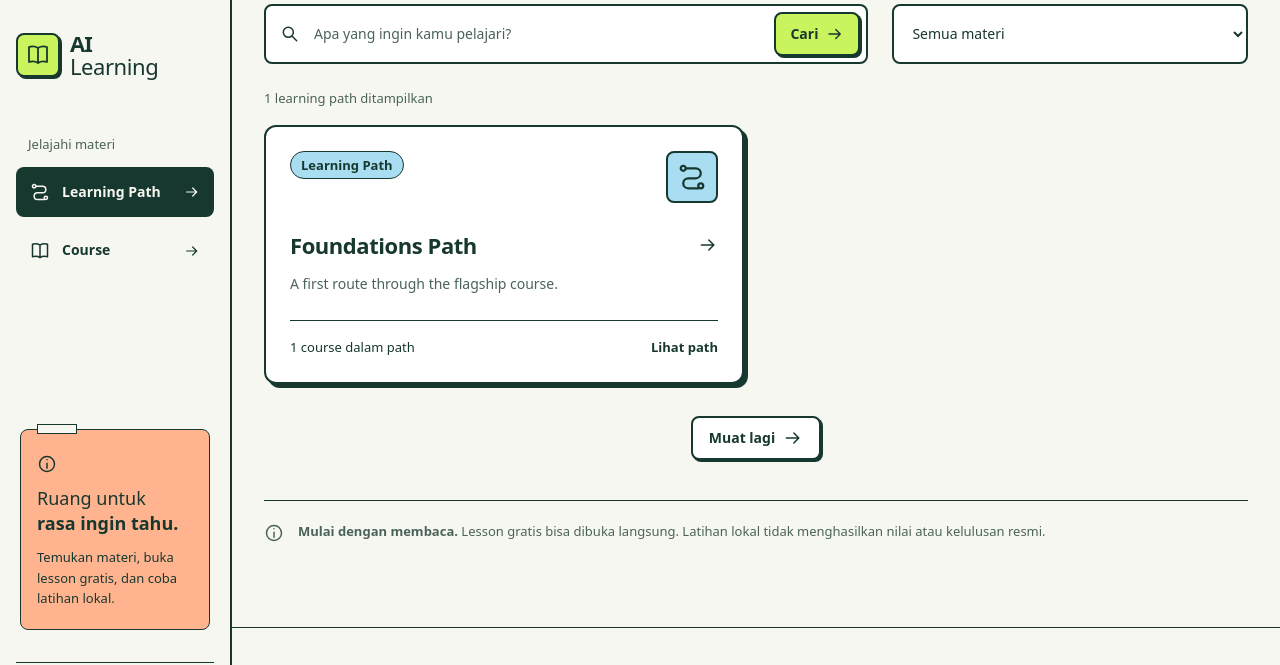
App › shows a genuine replacement failure and allows recovery without resurrecting the append error
(page scrolled)
Check: the link "Foundations Path" is shown, box left=290, top=231, right=718, bottom=259
Click the button "Muat lagi". click: (756, 438)
box: left=691, top=416, right=821, bottom=460
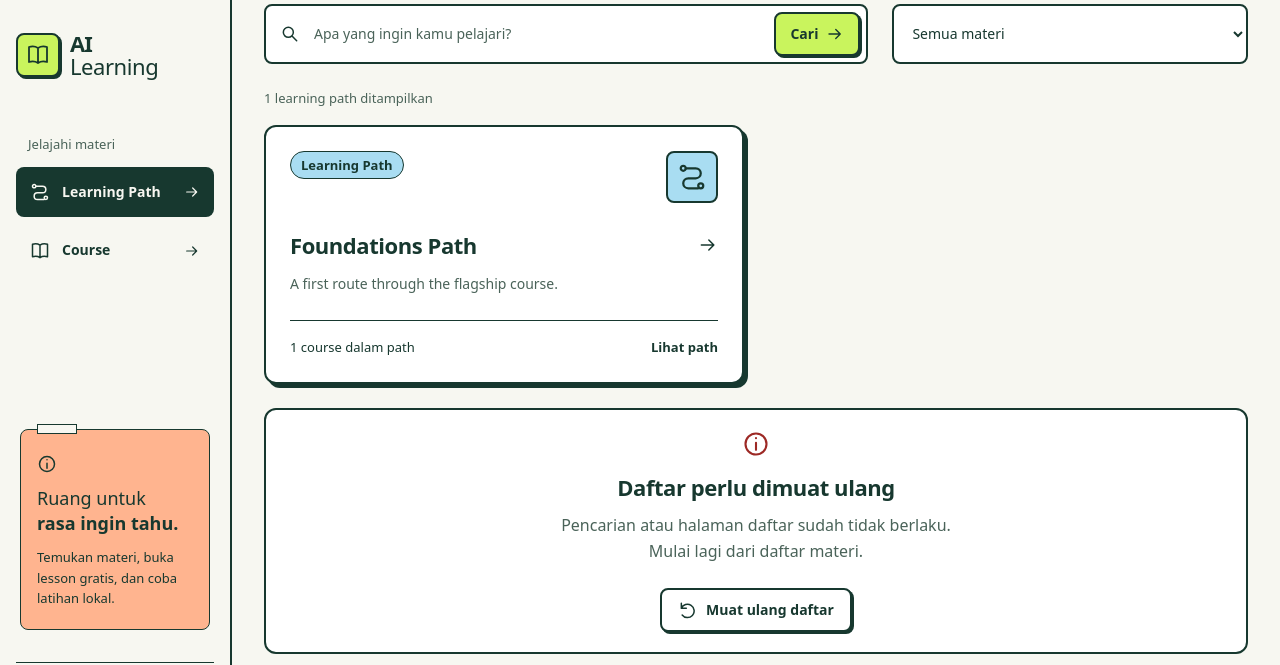
Check: the heading "Daftar perlu dimuat ulang" is shown, box left=617, top=472, right=895, bottom=502
Click the button "Muat ulang daftar". click: (756, 610)
box: left=660, top=588, right=852, bottom=632
(page scrolled)
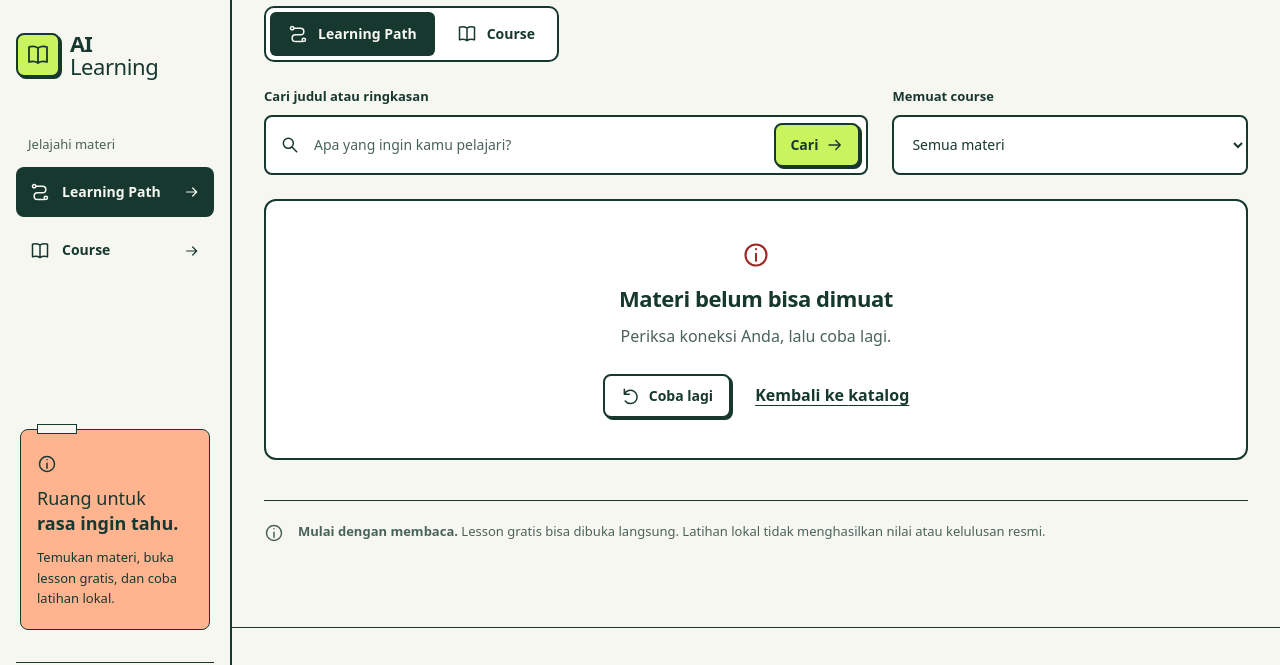
Check: the message is shown, box left=264, top=199, right=1248, bottom=460
Check: the heading "Materi belum bisa dimuat" is shown, box left=619, top=283, right=893, bottom=313
Check: the link "Foundations Path" is gone
Click the button "Coba lagi". click: (667, 396)
box: left=603, top=374, right=731, bottom=418
(page scrolled)
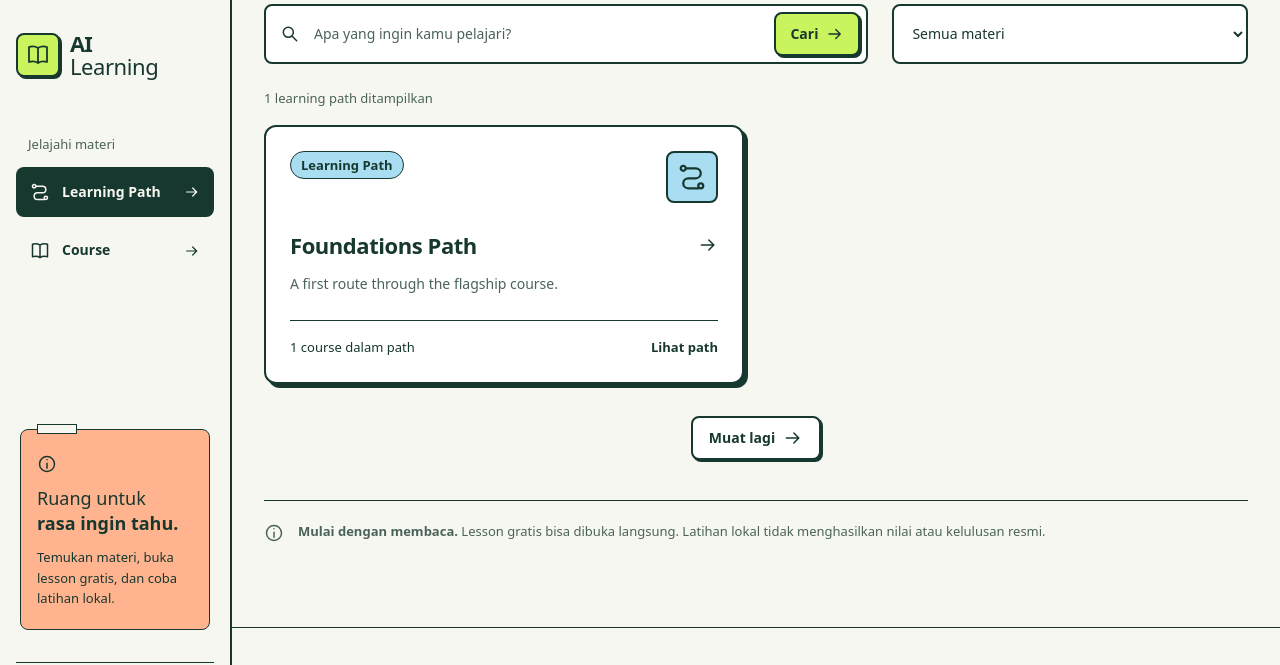
Check: the button "Muat ulang daftar" is not shown
Check: the link "Foundations Path" is shown, box left=290, top=231, right=718, bottom=259
